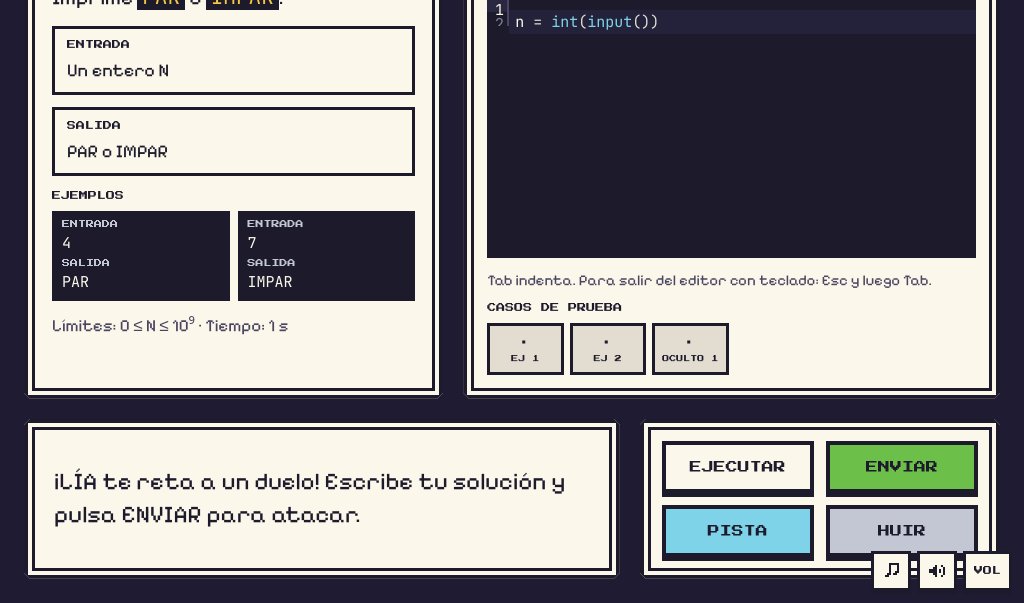
Scenario: BattleScreen › ENVIAR con AC completa el nivel y lleva a la victoria
(page scrolled)
Click the button "PISTA". click: (738, 531)
box: [662, 505, 814, 557]
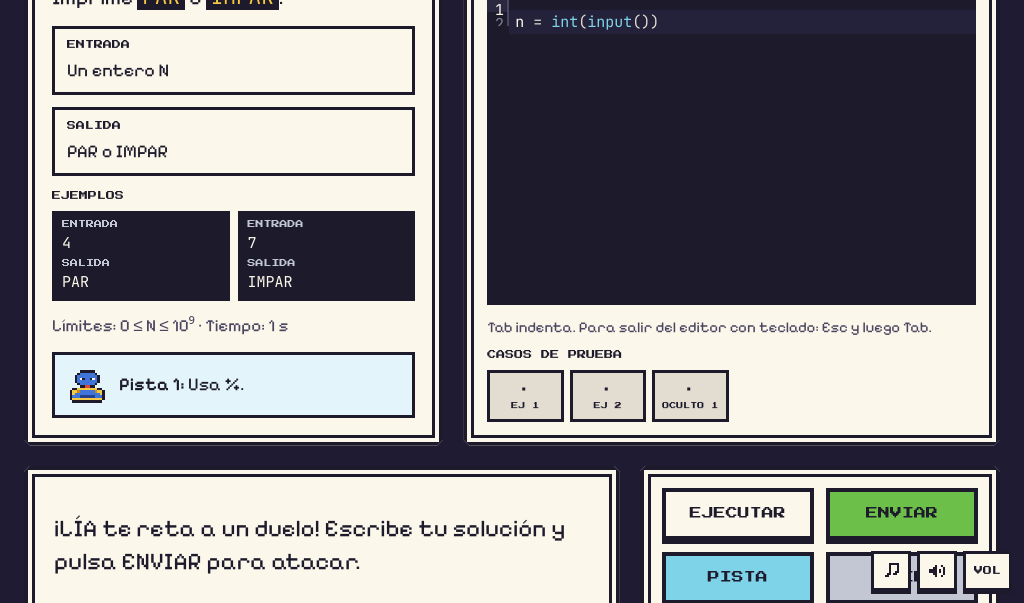
Result: the text "Usa %." is shown at [188, 373, 244, 395]
Click the button "ENVIAR". click: (902, 514)
box: [826, 488, 978, 540]
(page scrolled)
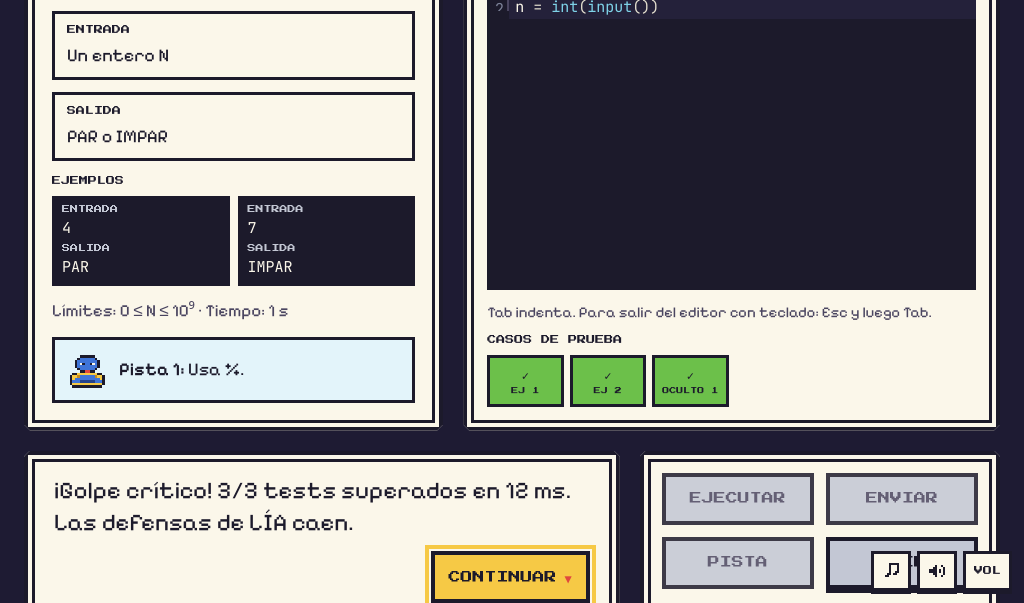
Result: the message shows "¡Golpe crítico! 3/3" at [54, 476, 571, 537]
Click the button "CONTINUAR ▼". click: (510, 577)
box: [431, 551, 590, 602]
(page scrolled)
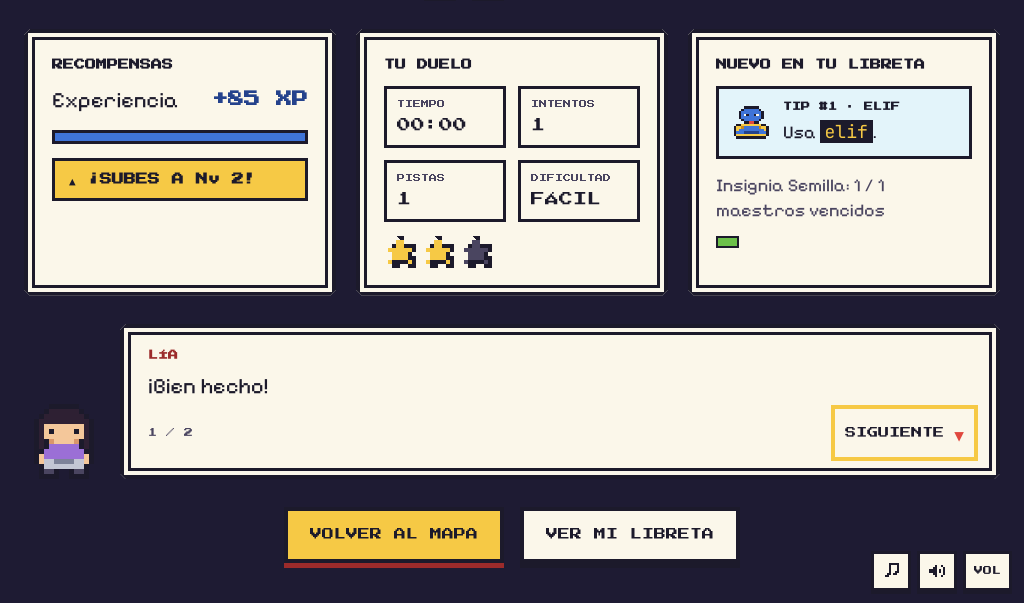
Result: the text "+85 XP" is shown at [212, 88, 308, 111]
Result: the text "¡SUBES A Nv 2!" is shown at [88, 171, 256, 188]
